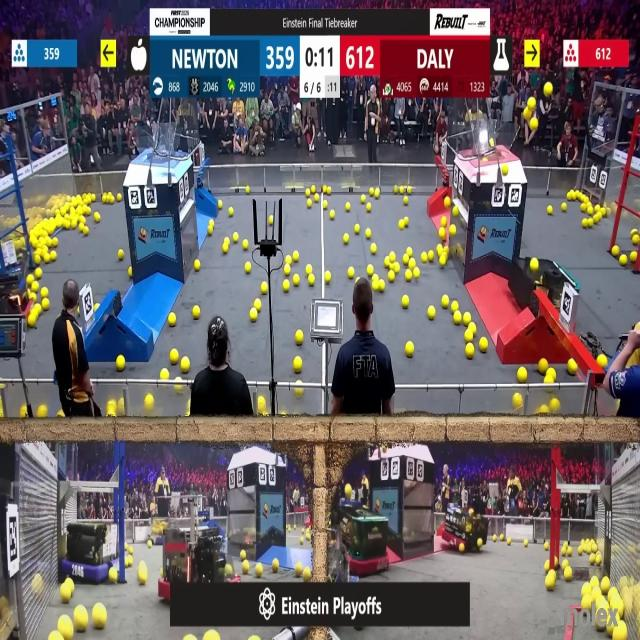ball_airborne: (543, 84, 551, 98), (528, 98, 536, 111), (530, 118, 538, 130), (500, 165, 508, 175), (524, 108, 531, 119), (346, 485, 352, 497), (488, 139, 494, 148)
ball_ground: (74, 609, 88, 633), (94, 604, 107, 628), (62, 582, 73, 604), (544, 573, 554, 590), (180, 356, 189, 372), (514, 392, 523, 408), (257, 396, 265, 414), (63, 626, 74, 639), (518, 367, 528, 381), (580, 595, 590, 608), (139, 568, 147, 584), (598, 354, 607, 368), (601, 580, 610, 594), (568, 359, 576, 374), (116, 355, 124, 370), (145, 395, 153, 410), (109, 568, 117, 583), (191, 306, 199, 320), (538, 358, 546, 372), (292, 357, 300, 371), (466, 344, 474, 358), (406, 343, 414, 357), (530, 260, 538, 274), (38, 406, 46, 419), (564, 568, 572, 581), (107, 405, 115, 418), (295, 332, 302, 346), (169, 313, 176, 327), (481, 339, 488, 353), (255, 564, 263, 576), (462, 312, 470, 324), (171, 350, 179, 362), (454, 313, 462, 325), (262, 282, 270, 294), (28, 315, 36, 327), (294, 563, 302, 575), (18, 409, 26, 421), (224, 564, 232, 576), (443, 294, 450, 307), (49, 631, 59, 640), (162, 367, 170, 378), (464, 332, 472, 343), (630, 251, 638, 262), (370, 280, 378, 291), (250, 310, 257, 322), (401, 295, 408, 307), (42, 300, 49, 312), (273, 560, 280, 572), (243, 560, 249, 574), (440, 229, 447, 241), (324, 272, 331, 284), (428, 307, 435, 319), (243, 264, 250, 276), (304, 568, 311, 580), (538, 407, 547, 416), (308, 276, 316, 286), (552, 399, 560, 409), (586, 218, 594, 228), (591, 576, 599, 586), (611, 246, 618, 257), (35, 269, 42, 280), (621, 254, 628, 265), (414, 269, 421, 280), (292, 251, 299, 262), (32, 282, 39, 293), (583, 585, 590, 596), (349, 268, 355, 280), (284, 280, 290, 292), (292, 276, 298, 288), (380, 280, 386, 292), (254, 300, 260, 312), (48, 238, 56, 247), (544, 367, 552, 376), (436, 242, 442, 254), (294, 388, 302, 397), (388, 272, 395, 282), (284, 267, 291, 277), (402, 254, 409, 264), (445, 198, 452, 208), (452, 302, 459, 312), (441, 255, 448, 265), (364, 230, 371, 240), (28, 275, 35, 285), (579, 218, 586, 228), (366, 266, 372, 277), (117, 249, 123, 260), (407, 271, 413, 282), (41, 288, 48, 297), (175, 384, 182, 393), (284, 255, 291, 264), (307, 266, 313, 276), (193, 262, 199, 272), (243, 240, 249, 250), (459, 542, 465, 552), (370, 244, 376, 254), (354, 223, 360, 233), (344, 235, 350, 245), (442, 216, 448, 226), (82, 224, 88, 234), (50, 251, 56, 261), (95, 212, 101, 222), (127, 556, 133, 566), (410, 257, 416, 267), (423, 251, 429, 261), (475, 538, 481, 548), (35, 254, 41, 264), (593, 214, 599, 224), (389, 253, 396, 261), (43, 254, 50, 262), (374, 274, 381, 282), (451, 223, 456, 234), (546, 206, 552, 215), (402, 197, 408, 206), (227, 207, 233, 216), (633, 236, 639, 245), (588, 206, 594, 215), (562, 559, 568, 568), (314, 192, 320, 201), (36, 304, 42, 313), (123, 542, 129, 551), (579, 204, 585, 213), (234, 234, 239, 244), (222, 244, 227, 254), (329, 210, 334, 220), (385, 256, 390, 266), (59, 412, 66, 419), (86, 208, 93, 215), (322, 202, 328, 210), (115, 192, 121, 200), (208, 226, 214, 234), (543, 376, 549, 384), (269, 216, 275, 224), (375, 189, 381, 197), (71, 220, 77, 228), (365, 204, 371, 212), (92, 192, 98, 200), (65, 220, 71, 228), (346, 203, 351, 212), (308, 200, 313, 209), (403, 217, 408, 226), (398, 220, 403, 229), (453, 207, 458, 216), (129, 544, 134, 553), (185, 635, 194, 640), (80, 216, 86, 223), (492, 534, 498, 541), (322, 186, 328, 193), (244, 186, 250, 193), (139, 562, 146, 568), (241, 552, 246, 560), (544, 561, 548, 571), (129, 268, 133, 278), (394, 265, 399, 273), (408, 248, 413, 256), (562, 204, 567, 212), (360, 194, 365, 202), (543, 542, 548, 550), (101, 196, 106, 204), (636, 321, 640, 331), (567, 190, 572, 198), (577, 546, 582, 554), (218, 201, 222, 210), (506, 537, 511, 544), (306, 189, 311, 196), (524, 539, 529, 546), (209, 220, 214, 227), (499, 534, 504, 541), (393, 186, 398, 193), (555, 558, 559, 566), (299, 536, 303, 544), (32, 292, 36, 300), (399, 186, 403, 194), (368, 188, 372, 196), (148, 540, 152, 547), (409, 187, 413, 194), (312, 186, 316, 193), (0, 383, 4, 390)
goal: (466, 124, 522, 162), (129, 130, 189, 160)
robot_blue: (64, 520, 120, 581), (149, 519, 167, 543)
robot_red: (159, 526, 239, 608), (340, 506, 388, 578), (439, 508, 487, 550), (1, 269, 31, 314)
